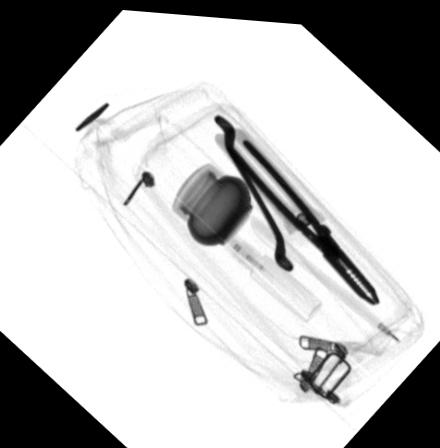Pliers: (222, 131, 380, 298)
Wrench: (211, 111, 291, 268)
